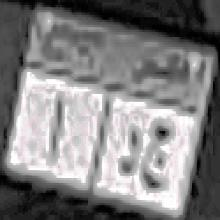1: (46, 95, 68, 160)
daal: (115, 123, 140, 181)
jeem: (142, 120, 177, 191)
